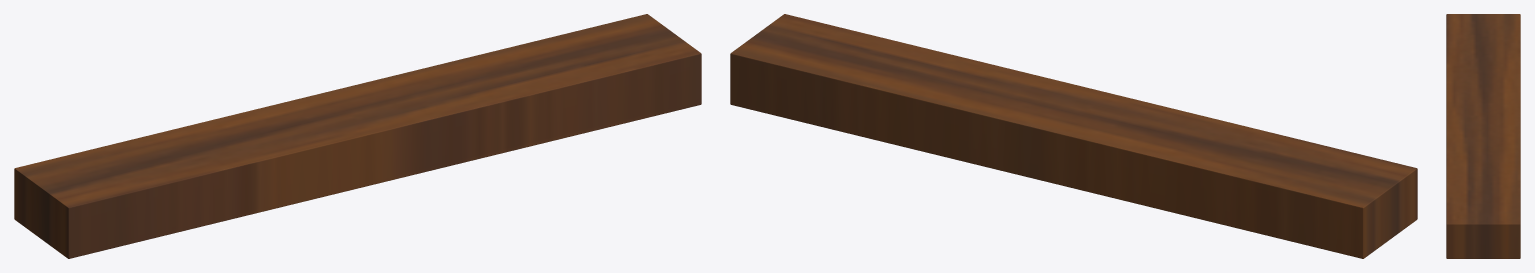
The model's file is CM_FacadeBay01_Beam_3m.fbx.
The picture shows the model from 3 angles, left to right: view 1: azimuth 30°, elevation 25°; view 2: azimuth 150°, elevation 25°; view 3: azimuth 270°, elevation 25°; orthographic projection. The views are drawn at different scales.
Visible parts, largest first — view 1: CM_FacadeBay01_Beam_3m_Timber; view 2: CM_FacadeBay01_Beam_3m_Timber; view 3: CM_FacadeBay01_Beam_3m_Timber.
Boxes of the visible parts, box(x1,y1,x2,y2) form: CM_FacadeBay01_Beam_3m_Timber: box(14, 14, 701, 258); CM_FacadeBay01_Beam_3m_Timber: box(730, 14, 1417, 258); CM_FacadeBay01_Beam_3m_Timber: box(1446, 14, 1520, 258).
Bounding box in the file's own units: 2.82 × 0.22 × 0.42.
